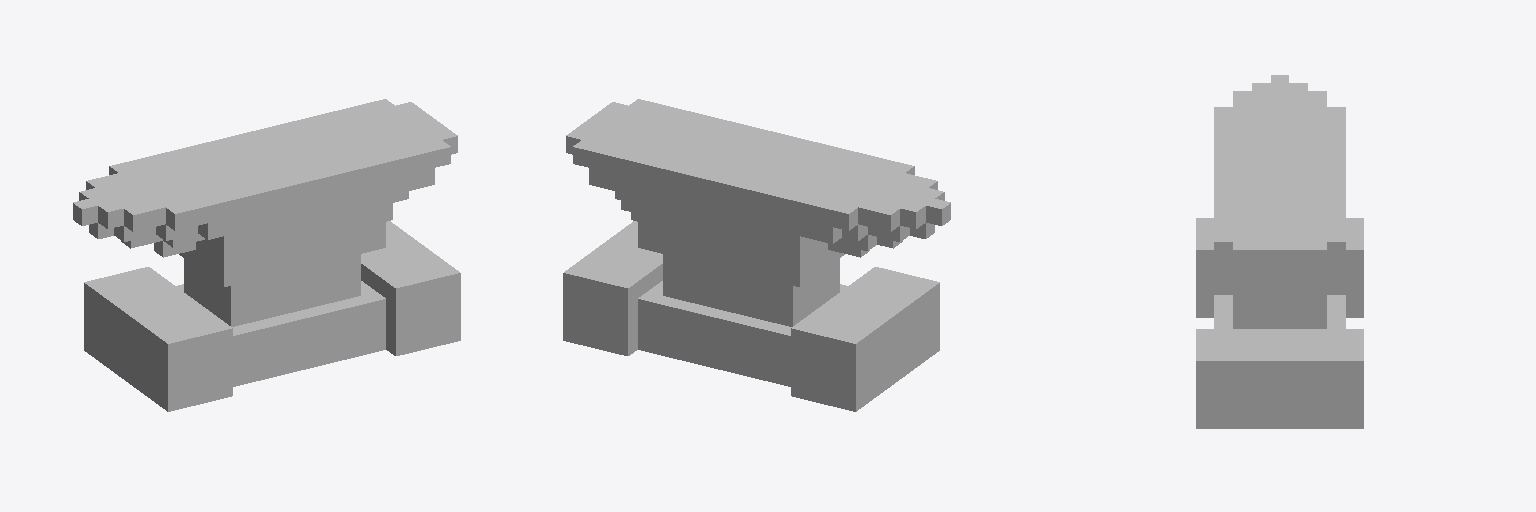
File: anvil.obj
3 views of the same model, side by side, from view 1: azimuth 30°, elevation 25°; view 2: azimuth 150°, elevation 25°; view 3: azimuth 270°, elevation 25° (orthographic).
Visible parts, largest first — view 1: SamAsBlacksmith; view 2: SamAsBlacksmith; view 3: SamAsBlacksmith.
Boxes of the visible parts, x1=… form: SamAsBlacksmith: x1=73, y1=99, x2=460, y2=411; SamAsBlacksmith: x1=563, y1=99, x2=950, y2=411; SamAsBlacksmith: x1=1196, y1=75, x2=1363, y2=428.
Bounding box in the file's own units: 22 × 11 × 9.